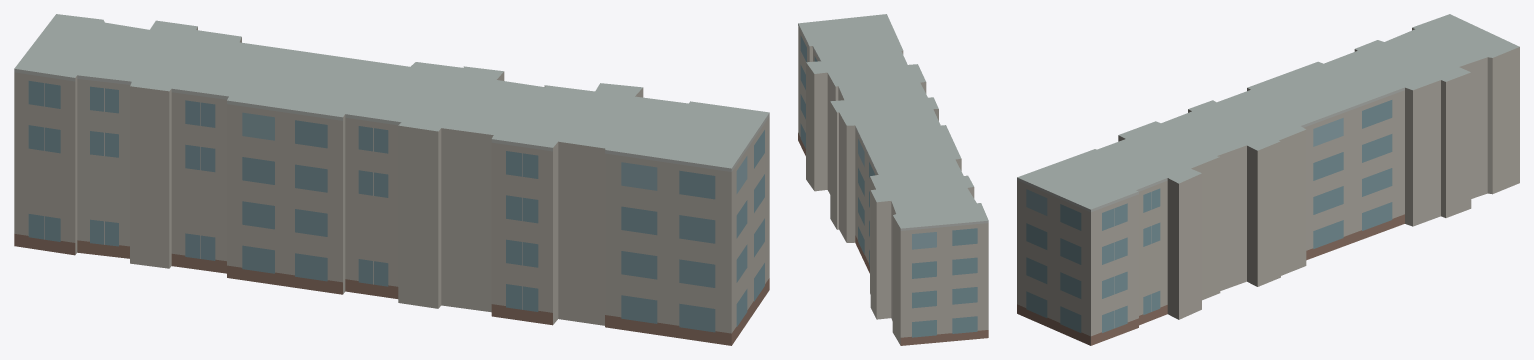
File: survey-upis-32523315.glb
The picture shows the model from 3 angles, left to right: view 1: azimuth 30°, elevation 25°; view 2: azimuth 150°, elevation 25°; view 3: azimuth 270°, elevation 25°; orthographic projection. The views are drawn at different scales.
Visible parts, largest first — view 1: survey-upis-32523315.tmp; view 2: survey-upis-32523315.tmp; view 3: survey-upis-32523315.tmp.
Part boxes in pixels (box(x1,y1,x2,y2)): survey-upis-32523315.tmp: box(14, 14, 769, 345); survey-upis-32523315.tmp: box(798, 14, 988, 345); survey-upis-32523315.tmp: box(1017, 14, 1519, 345).
Bounding box in the file's own units: 37.57 × 12.2 × 40.8.
